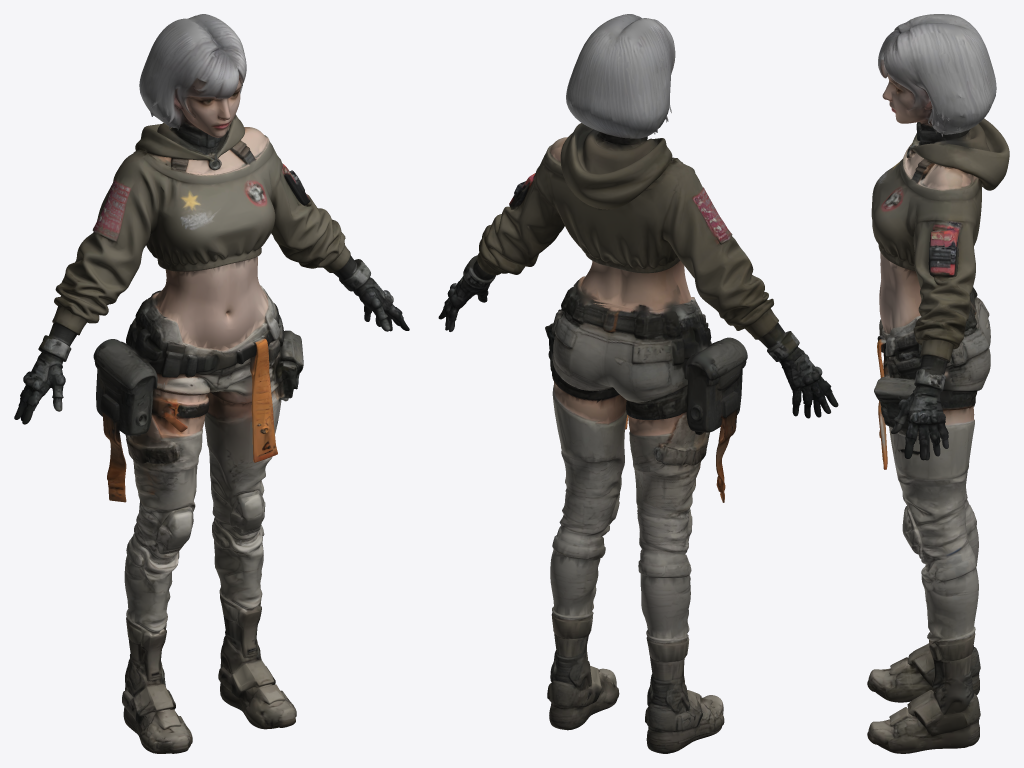
Rendered from bestgirl.glb.
3 renders of one model, left to right at view 1: azimuth 30°, elevation 25°; view 2: azimuth 150°, elevation 25°; view 3: azimuth 270°, elevation 25°, orthographic.
Visible parts, largest first — view 1: node_0.001; view 2: node_0.001; view 3: node_0.001.
Part boxes in pixels (box(x1,y1,x2,y2)): node_0.001: box(14, 14, 409, 753); node_0.001: box(438, 14, 838, 753); node_0.001: box(867, 14, 1009, 753).
Size of the model in its own units: 0.6109 by 1.05 by 0.1941.
Materials: 1 (1 with a texture image).
